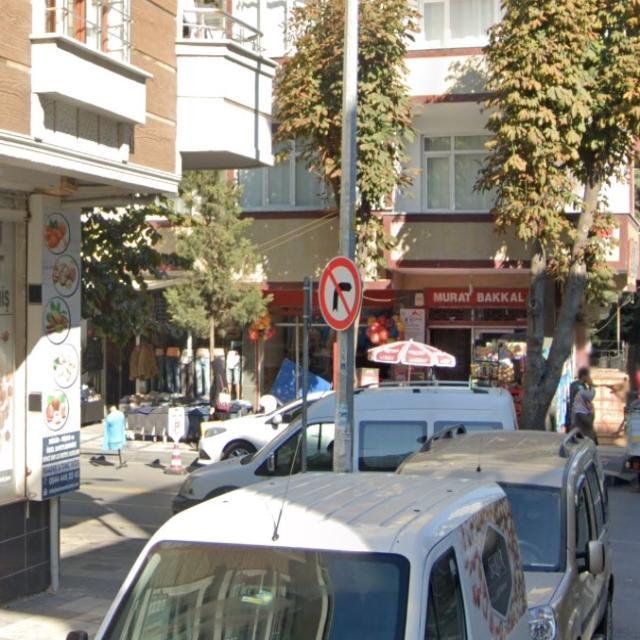sagadonulmez: (318, 257, 361, 331)
